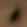cockroach: (9, 6, 22, 24)
